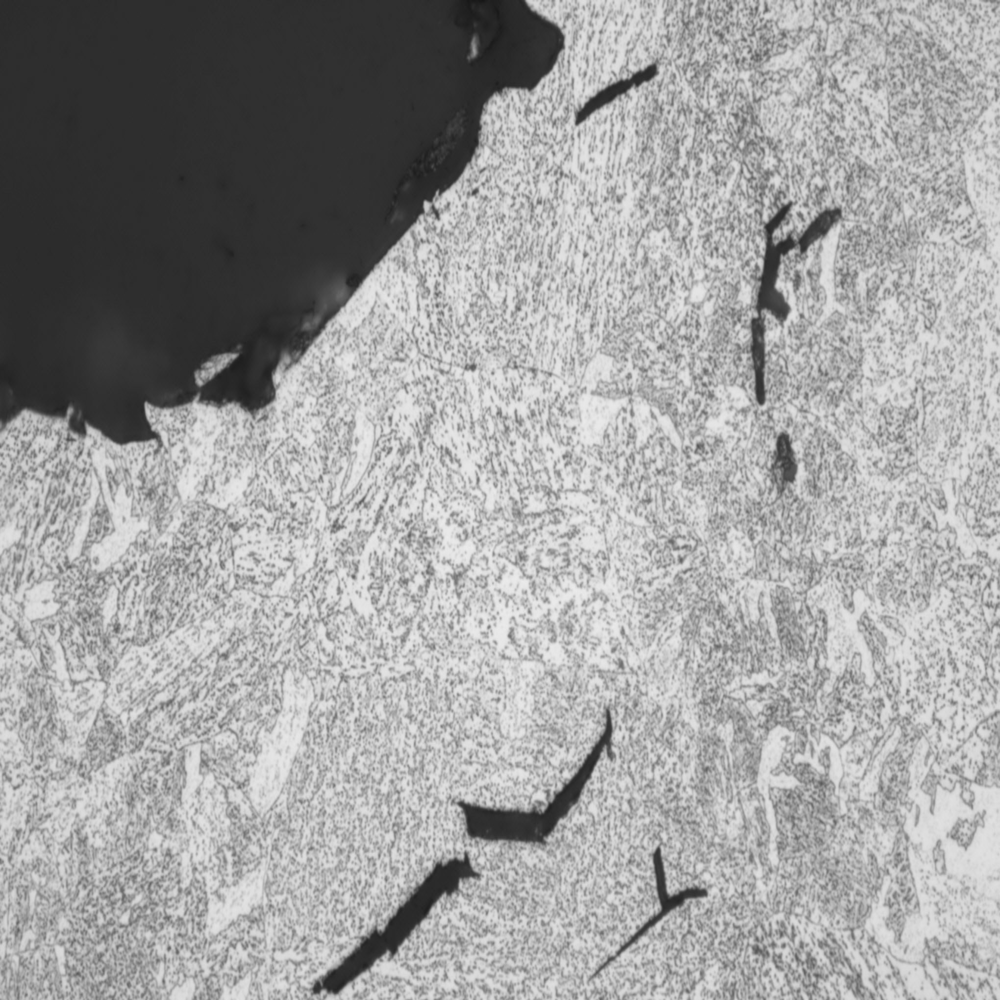crack: (722, 180, 857, 517), (302, 836, 483, 992), (466, 695, 638, 853), (580, 836, 711, 980), (558, 47, 671, 137)
